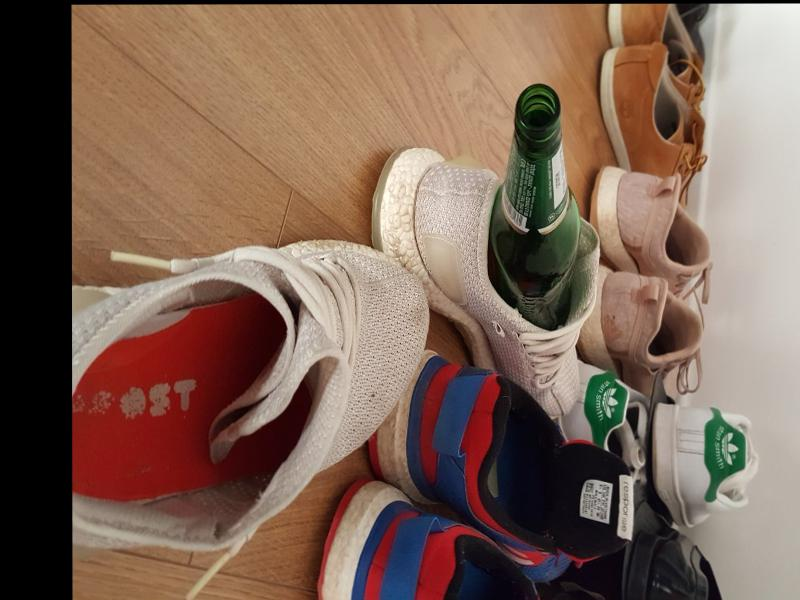Beer: (488, 83, 577, 330)
